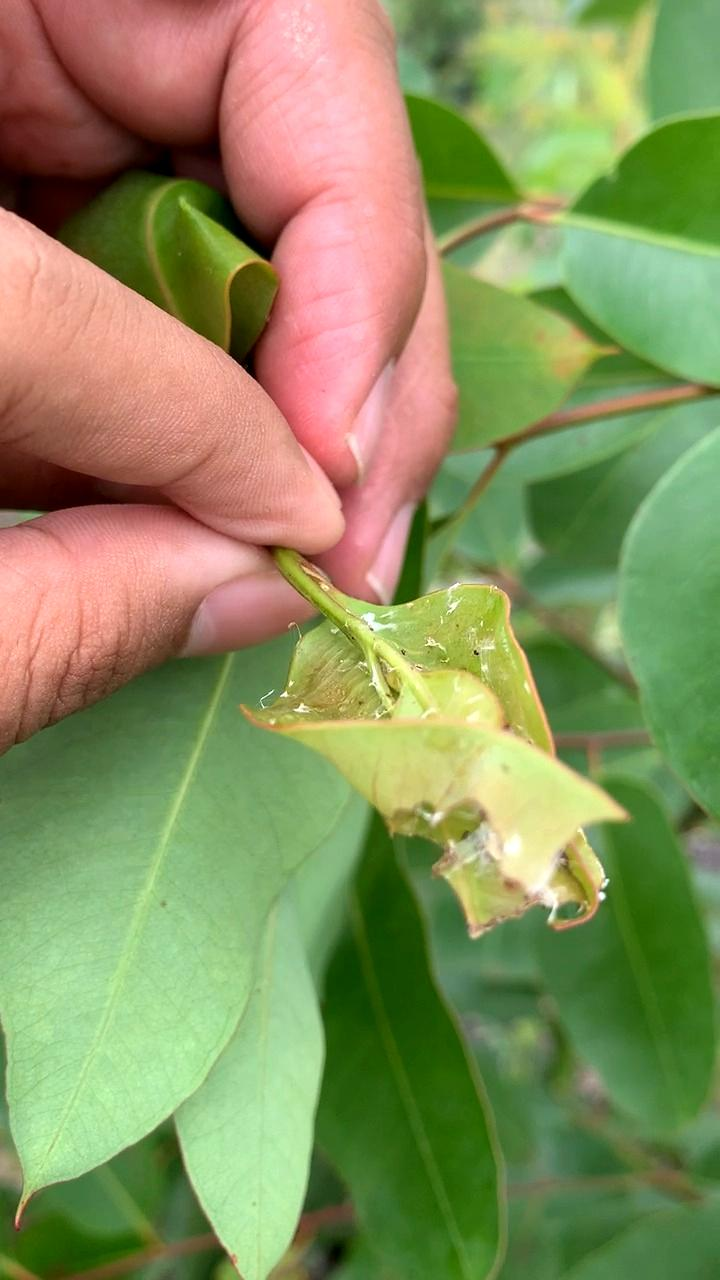Leaf Roller - Leaf: (260, 588, 609, 931)
